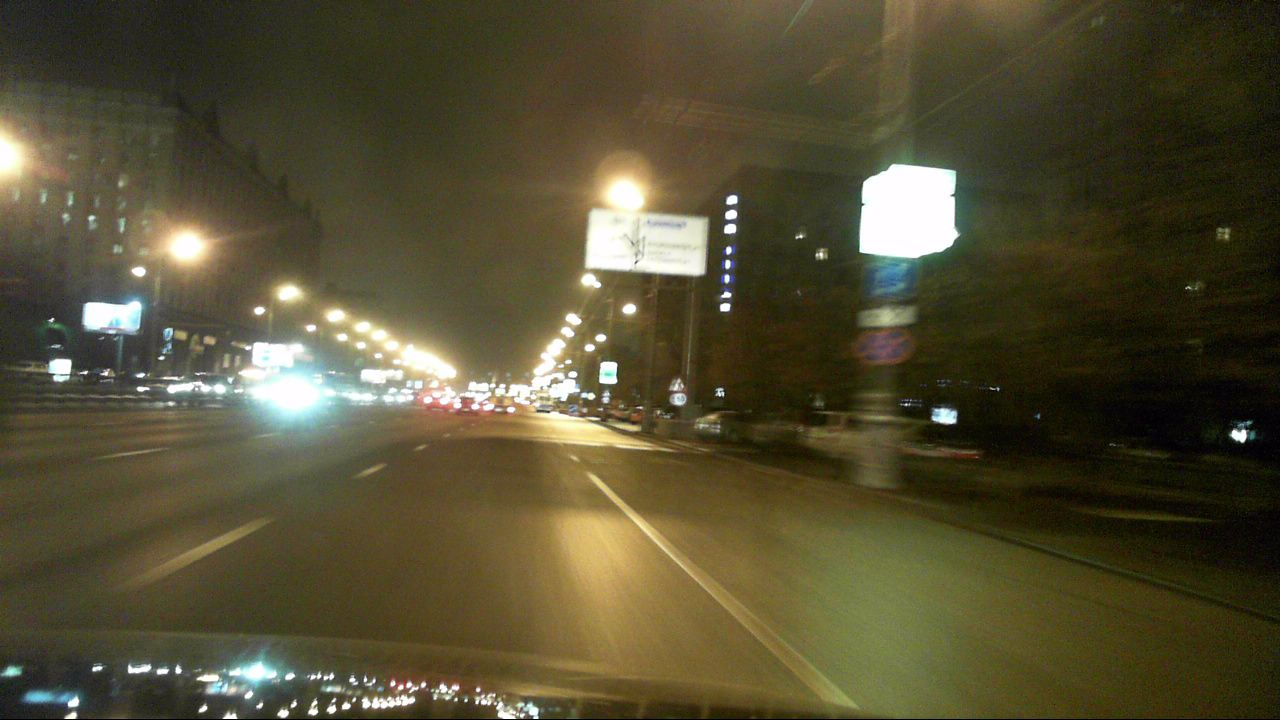No Parking: (872, 329, 912, 364)
